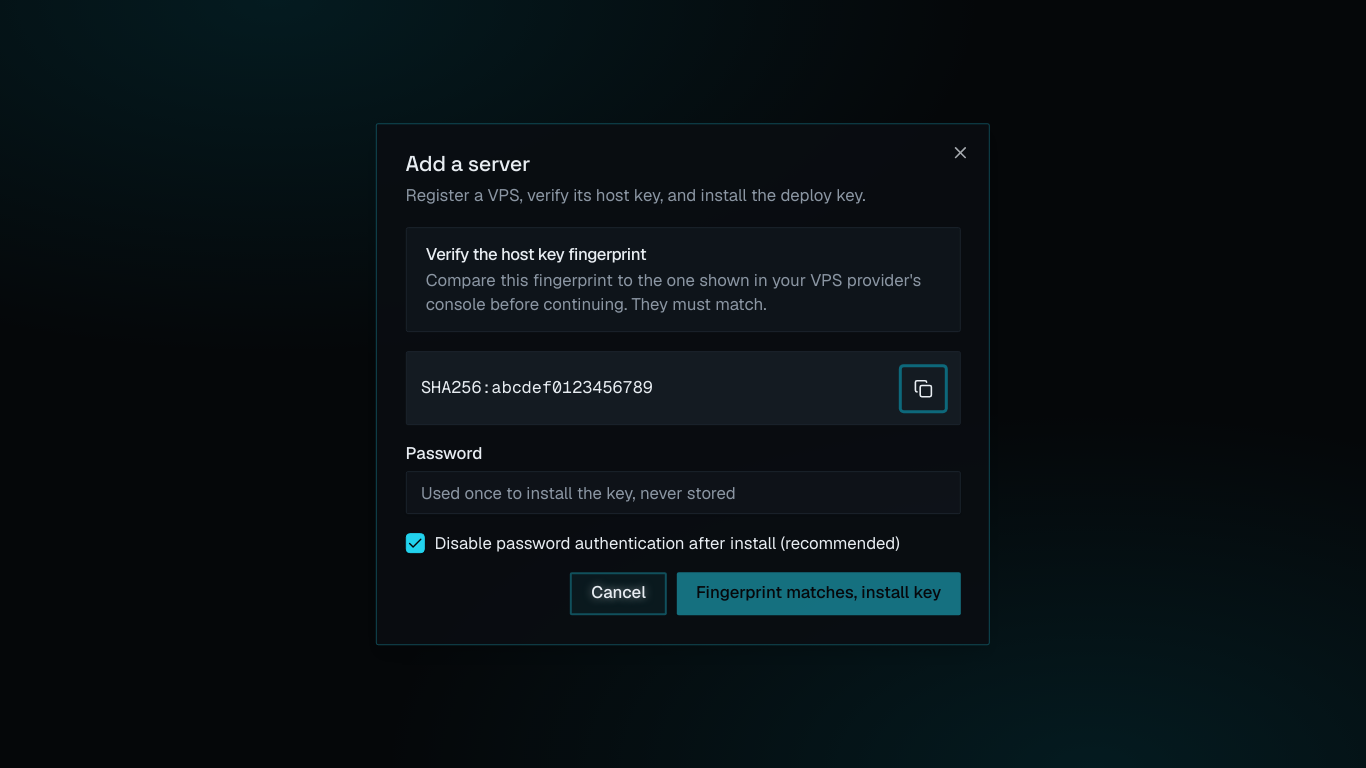
AddServerDialog › shows the failed step (and does not cancel the pending row) when install fails
This screenshot has width=1366, height=768.
In the password field labelled "Password": (683, 493) x1=406 y1=471 x2=960 y2=514, type "hunter2"
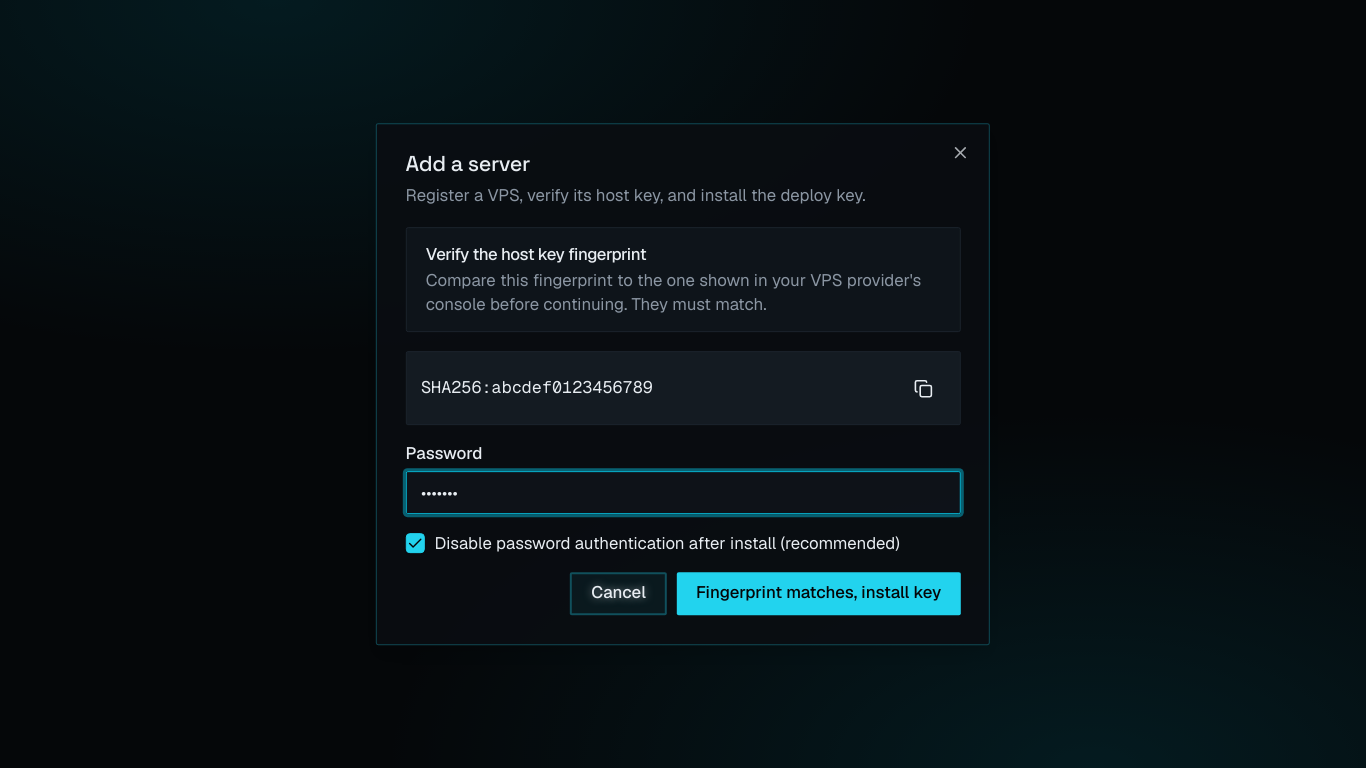
Click the button "Fingerprint matches, install key": (819, 594) x1=677 y1=572 x2=960 y2=615
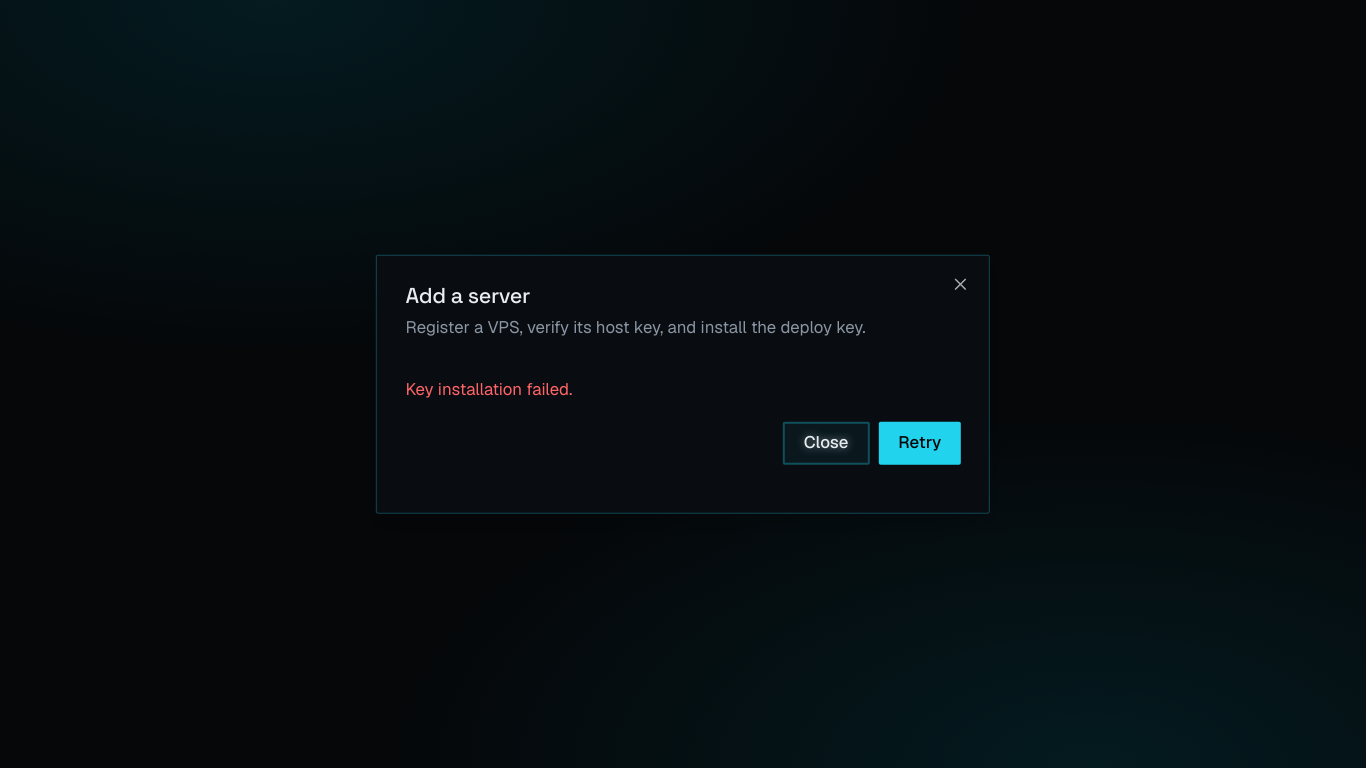
Check: the text "Key installation failed." is shown, box x1=406 y1=378 x2=572 y2=400
Check: the button "Retry" is shown, box x1=879 y1=421 x2=960 y2=464
